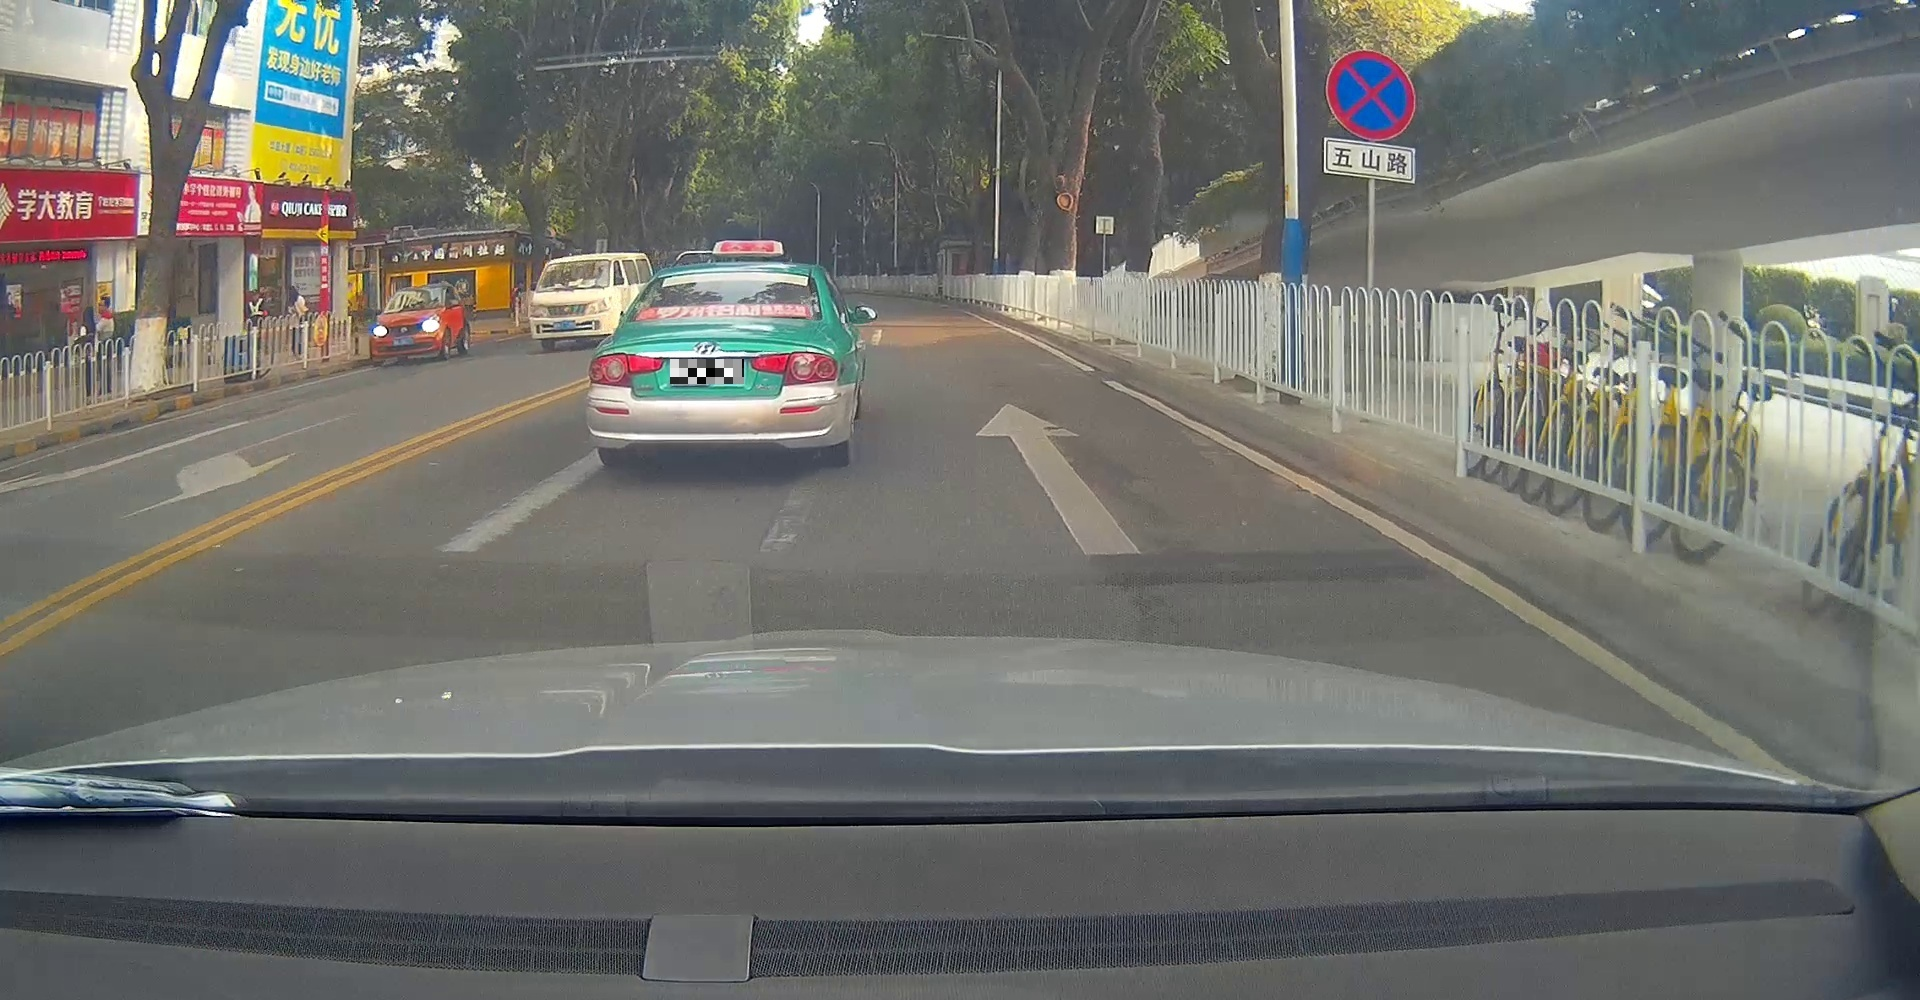L_light: (587, 352, 664, 390)
R_light: (750, 352, 838, 386)
T_light: (712, 272, 748, 280)
day-no: (585, 261, 839, 468)
plate_1: (670, 359, 744, 385)
